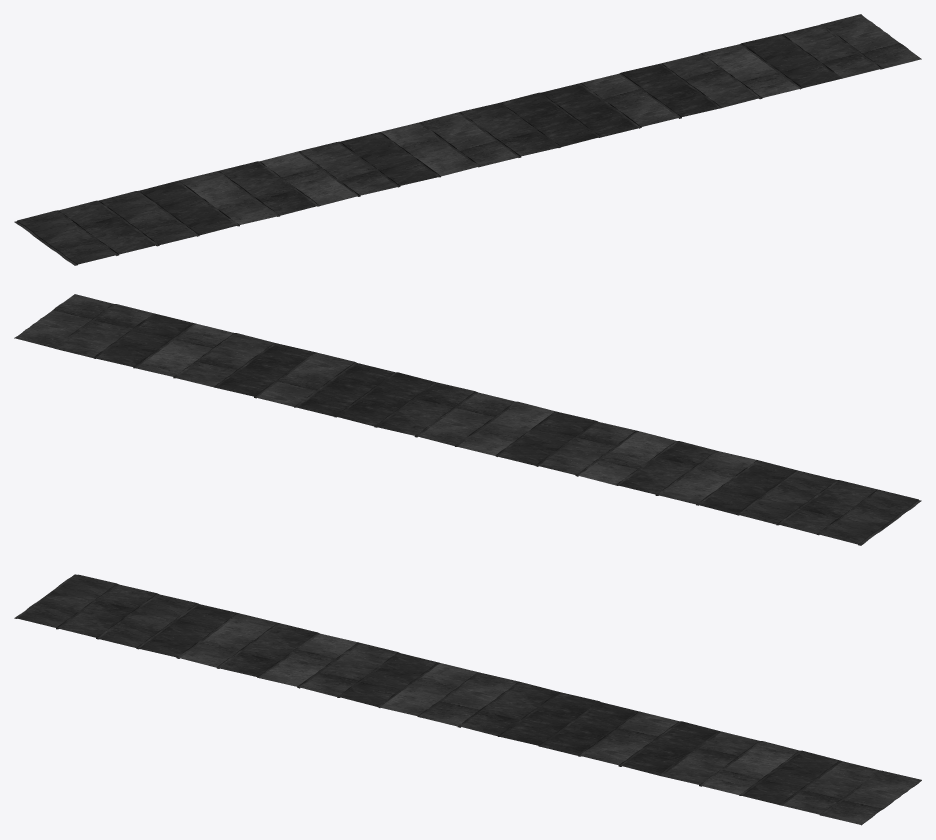
The model's file is HellGround.fbx.
The picture shows the model from 3 angles, top to bottom: view 1: azimuth 30°, elevation 25°; view 2: azimuth 150°, elevation 25°; view 3: azimuth 330°, elevation 25°; orthographic projection.
Parts seen in each view (by area): view 1: Plane.001; view 2: Plane.001; view 3: Plane.001.
Part boxes in pixels (x1,y1,x2,y2): Plane.001: (14, 14, 921, 265); Plane.001: (14, 294, 921, 545); Plane.001: (14, 574, 921, 825).
Bounding box in the file's own units: 1606 × 3.39 × 200.
